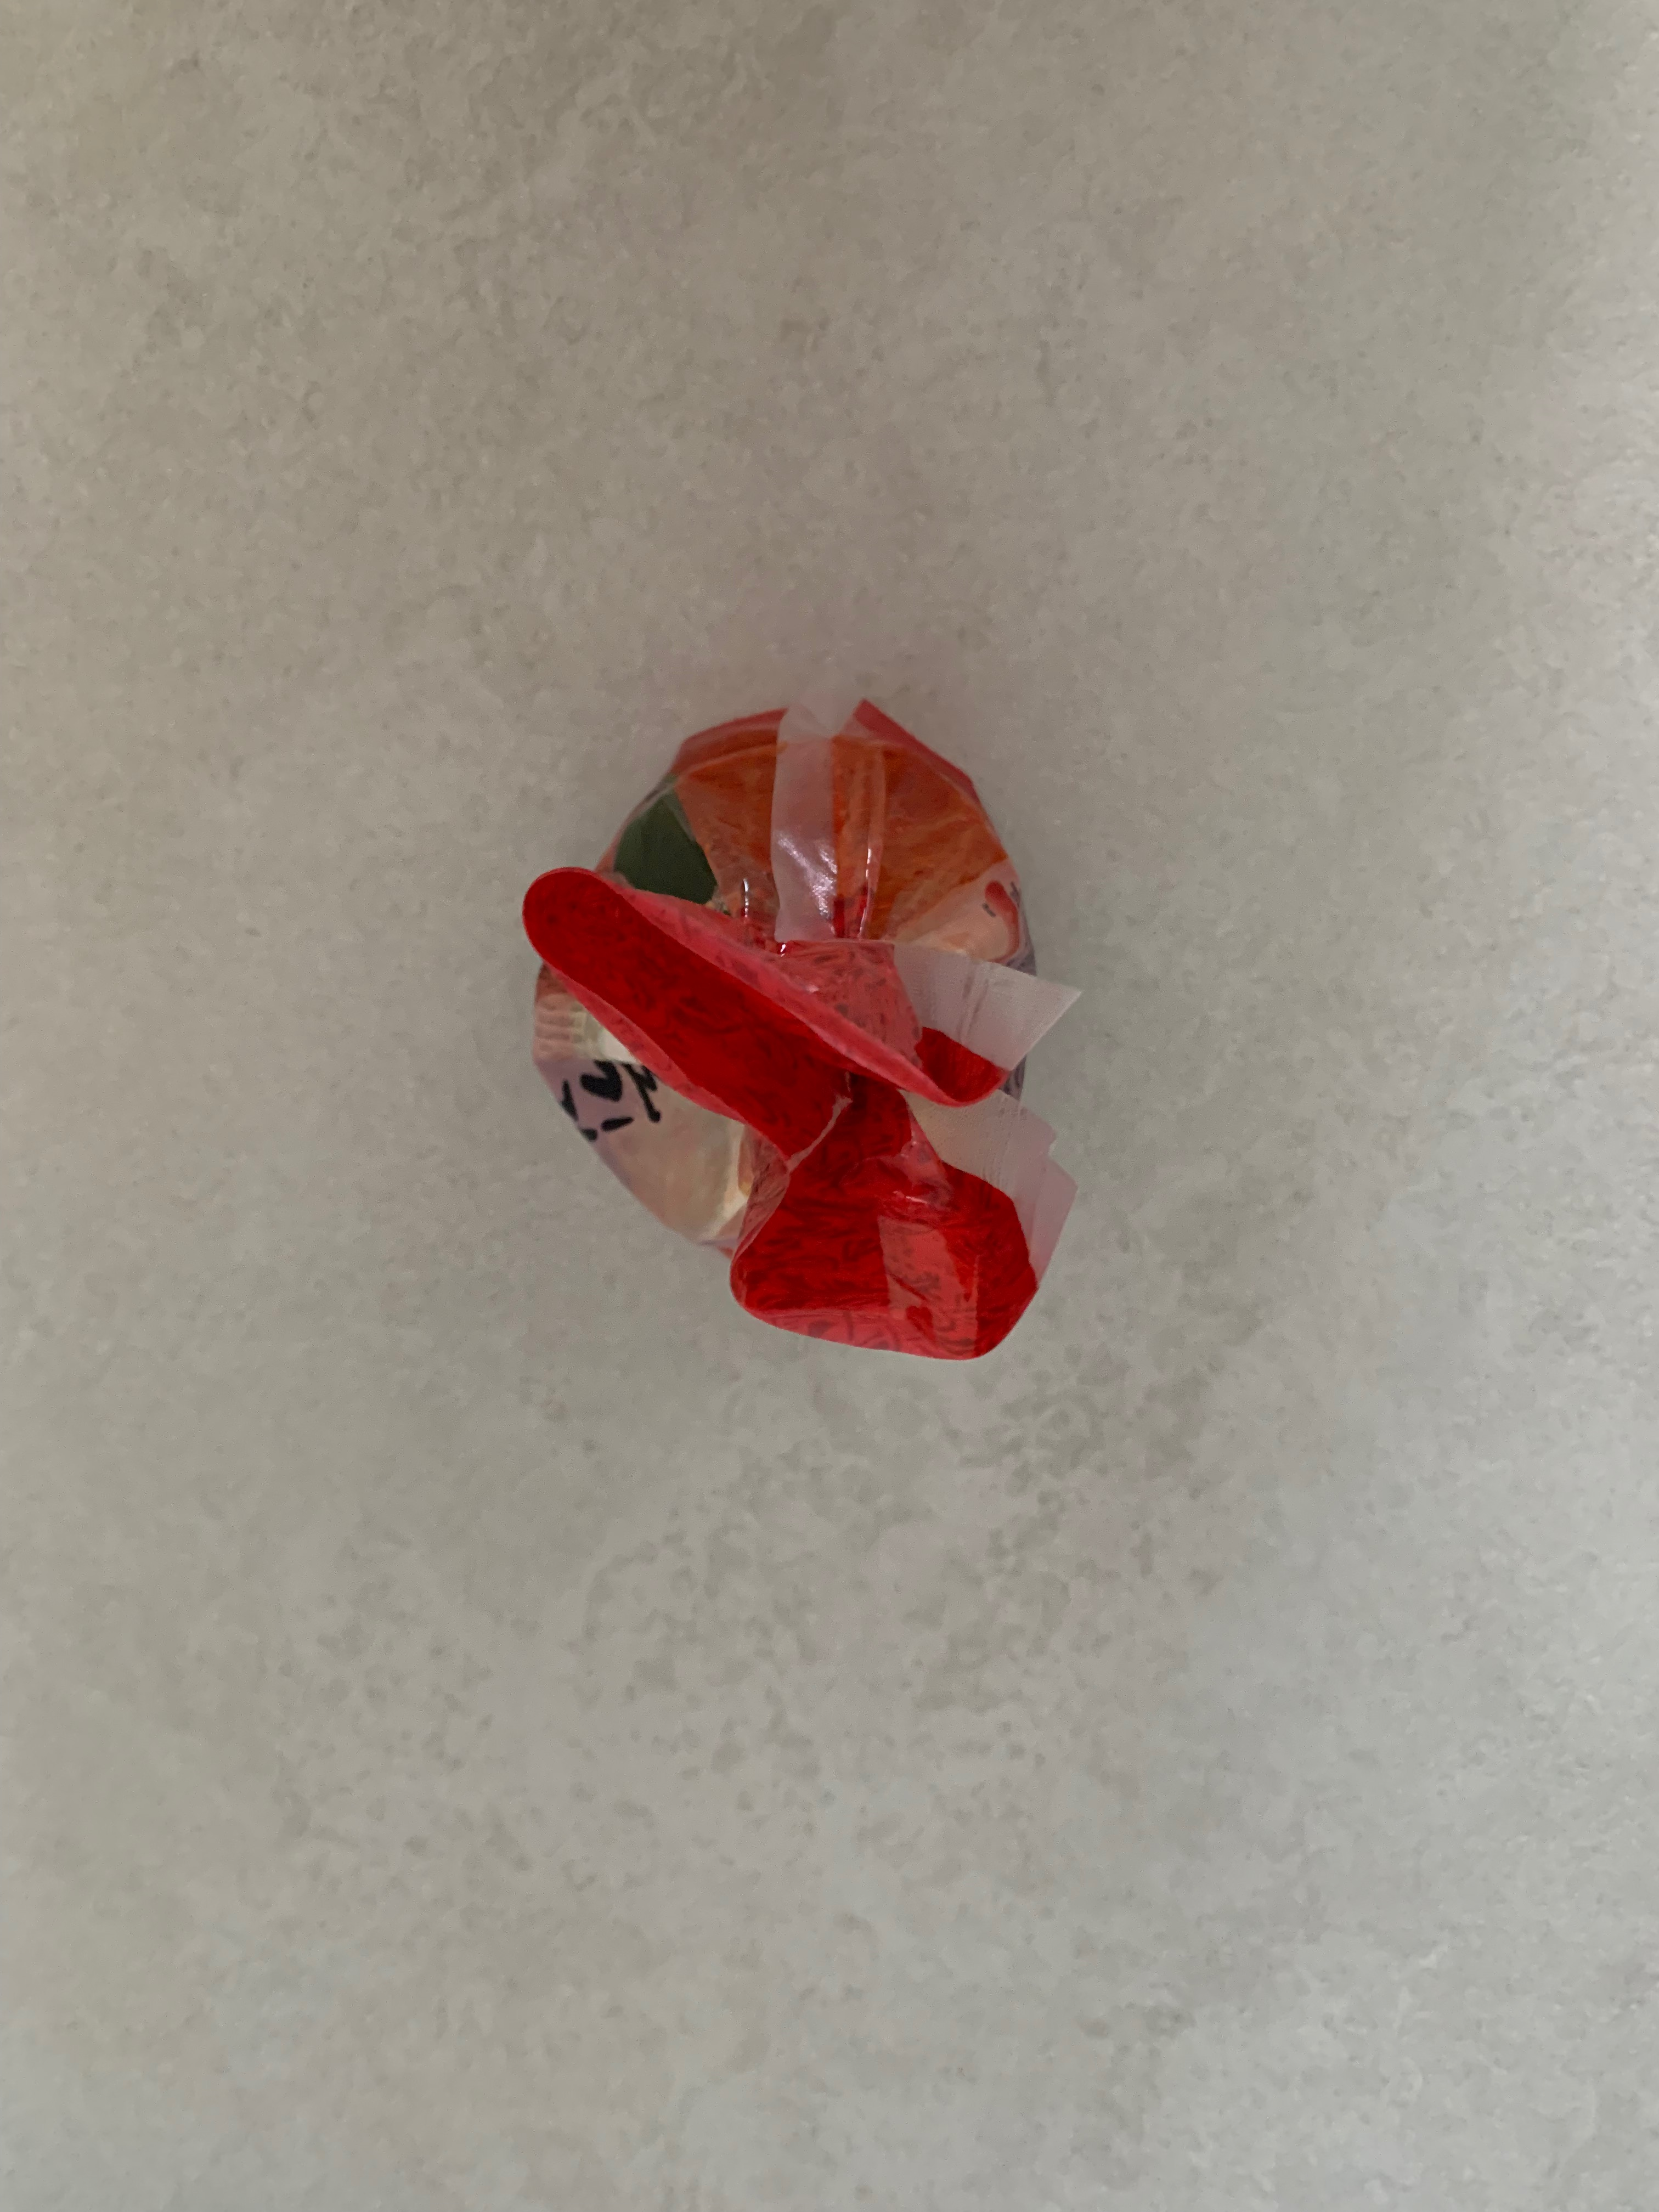kimchi: (523, 709, 1049, 1359)
